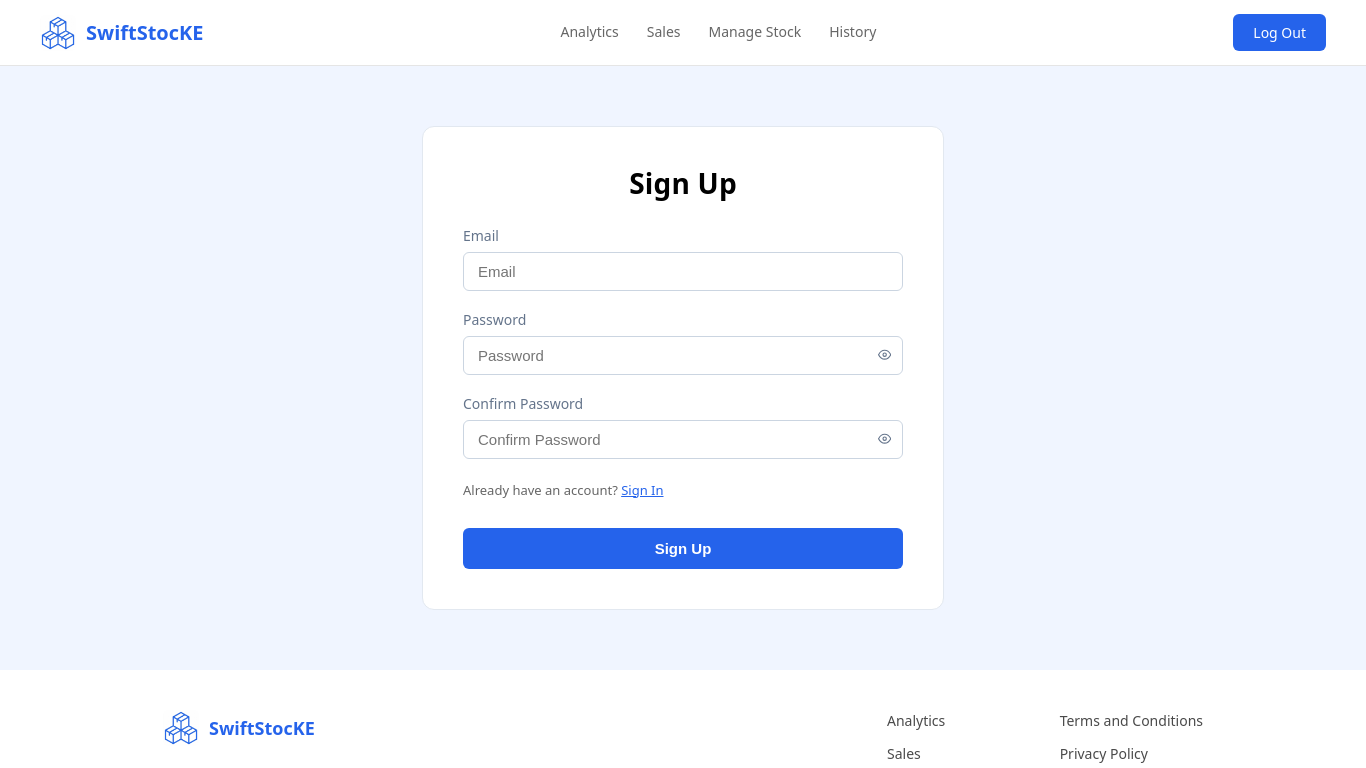
Scenario: Sign Up Page › validates password confirmation and shows error
The width and height of the screenshot is (1366, 768).
Type "password123" into the password field with test id "password-input".
click(683, 355); type("password123")  # box x1=463 y1=336 x2=903 y2=375
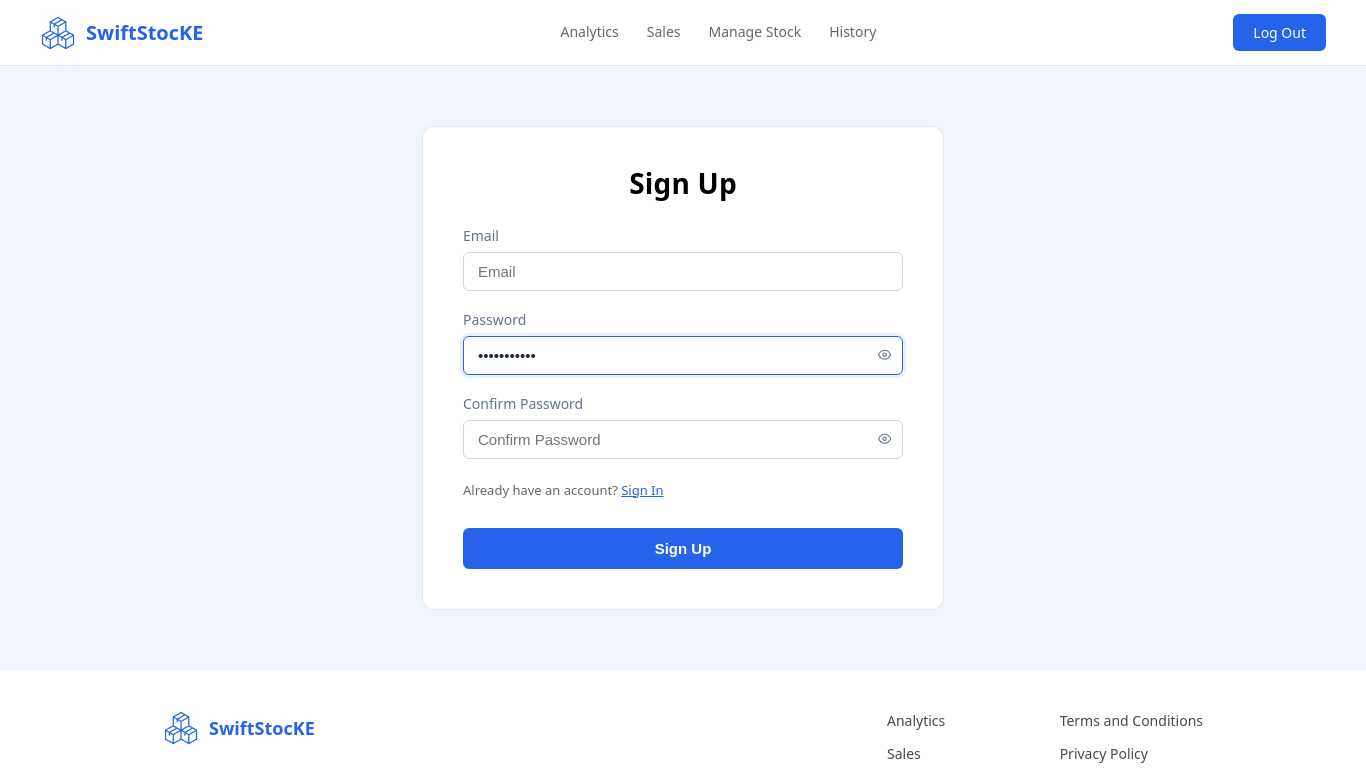
Type "wrongpassword" into the password field with test id "confirm-password-input".
click(683, 439); type("wrongpassword")  # box x1=463 y1=420 x2=903 y2=459
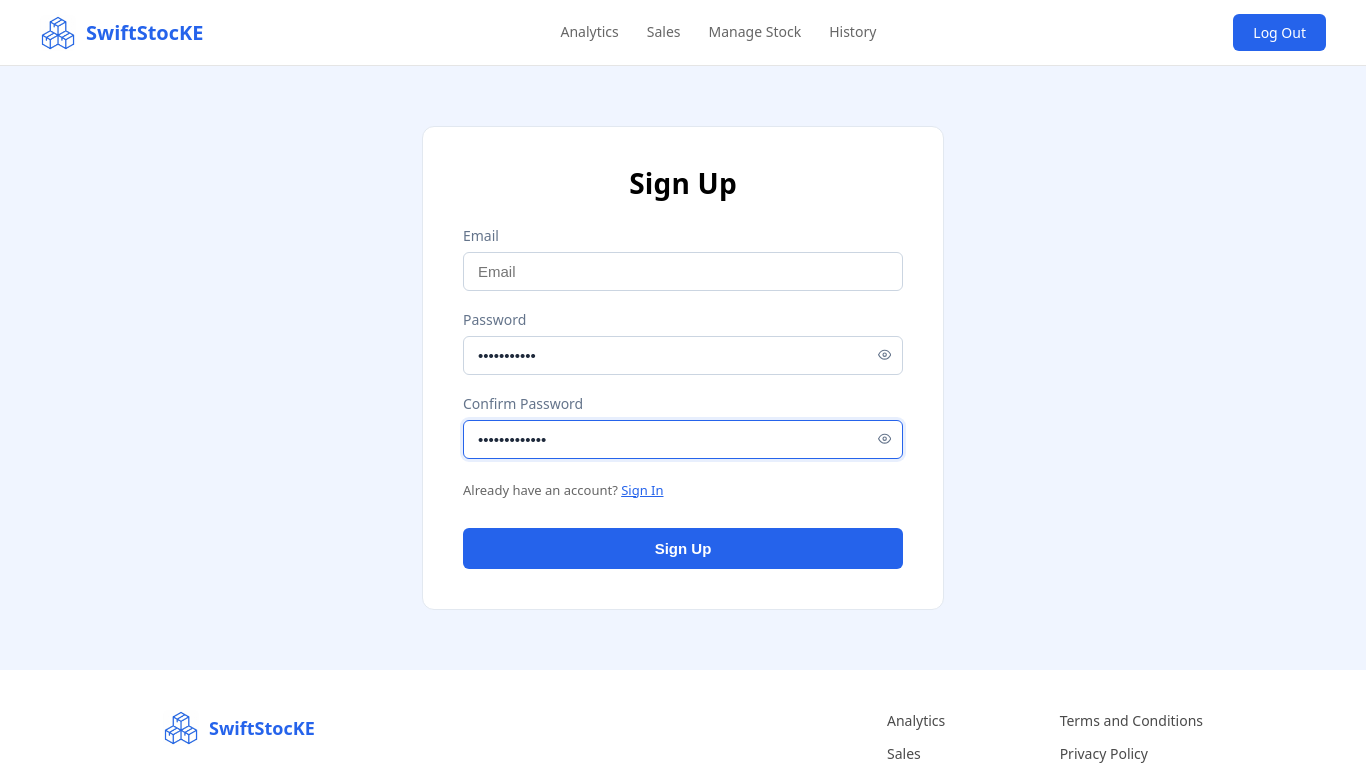
Submit the form with test id "signup-form", box x1=463 y1=225 x2=903 y2=569
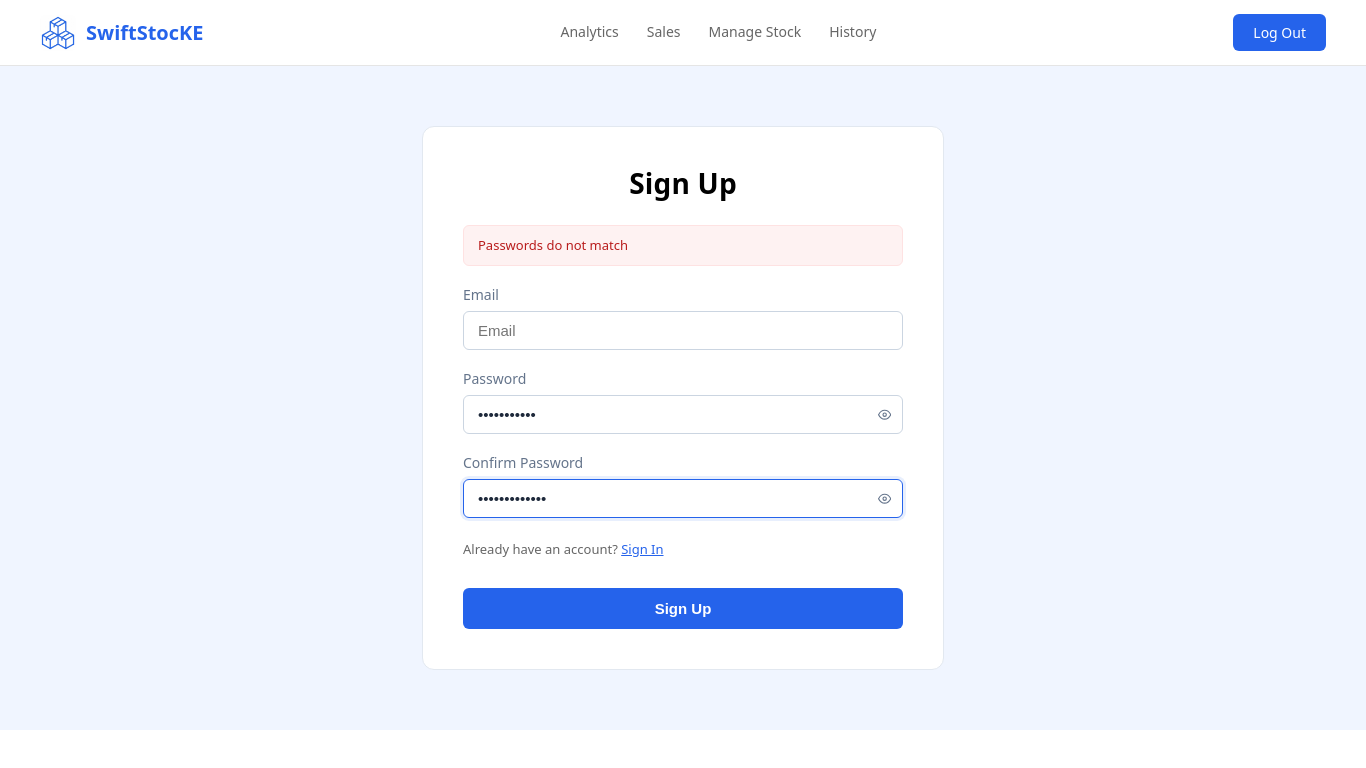
Check: the text "Passwords do not match" is shown, box x1=463 y1=225 x2=903 y2=266
